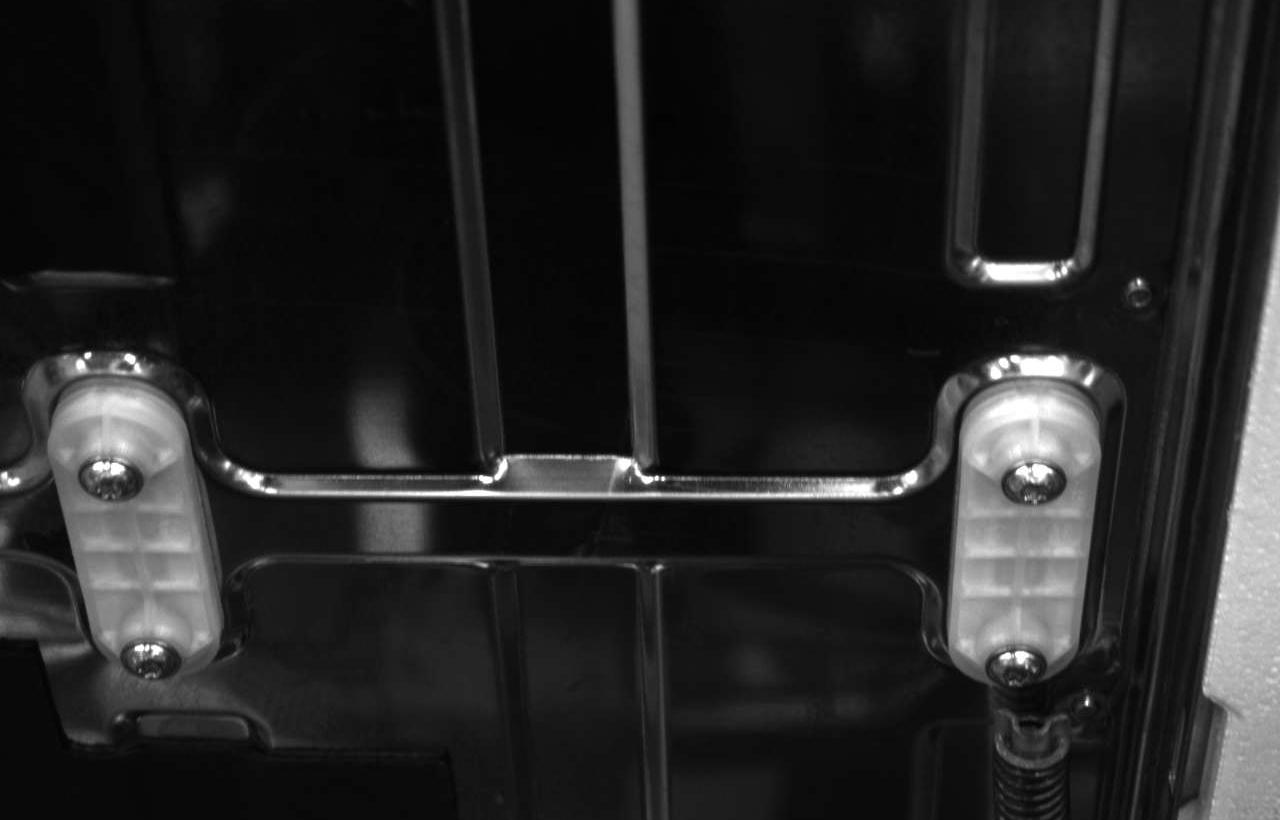vida-ok: (74, 448, 146, 515), (1000, 451, 1067, 518), (121, 628, 187, 687), (986, 634, 1051, 692)
